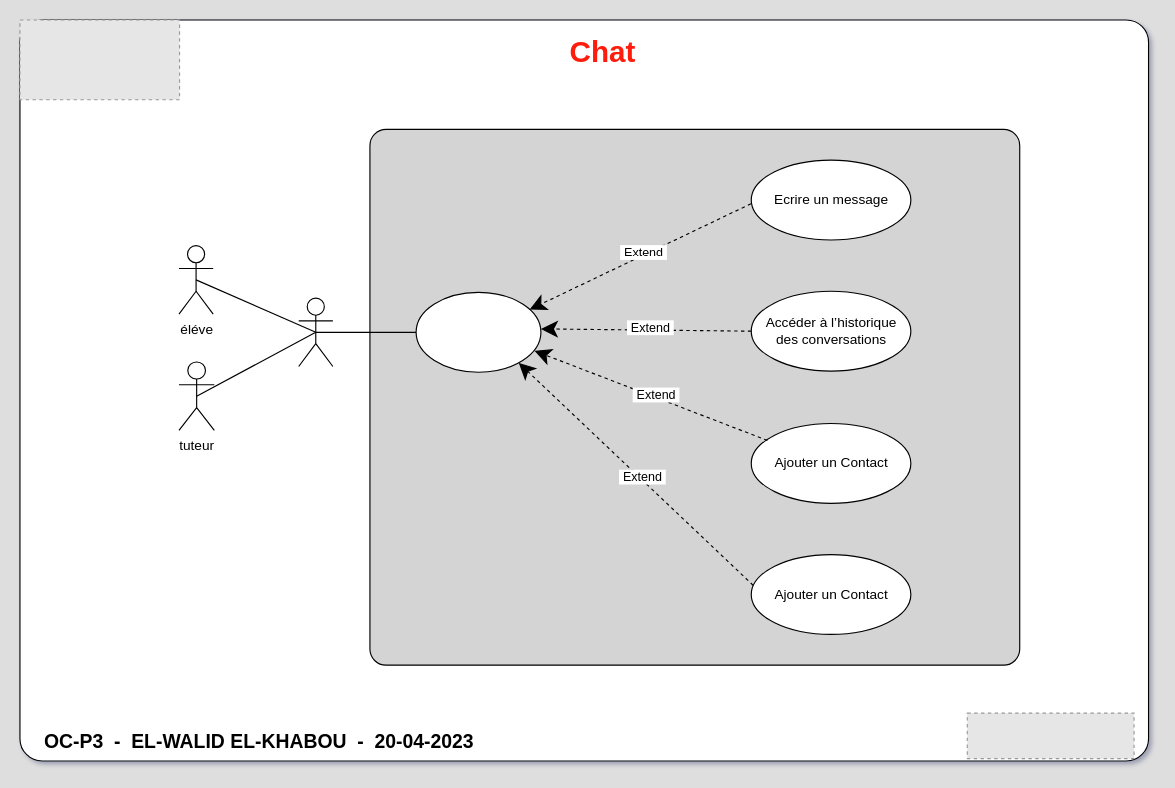
Some shapes in this 1175 by 788 pixel diagram are drawn without their labels. Grey dashed boxes stand in for pictures. The centre of each missing label's shape, as x and y in pixels:
Page de Chat: [478,331]
utilisateur: [315,332]
